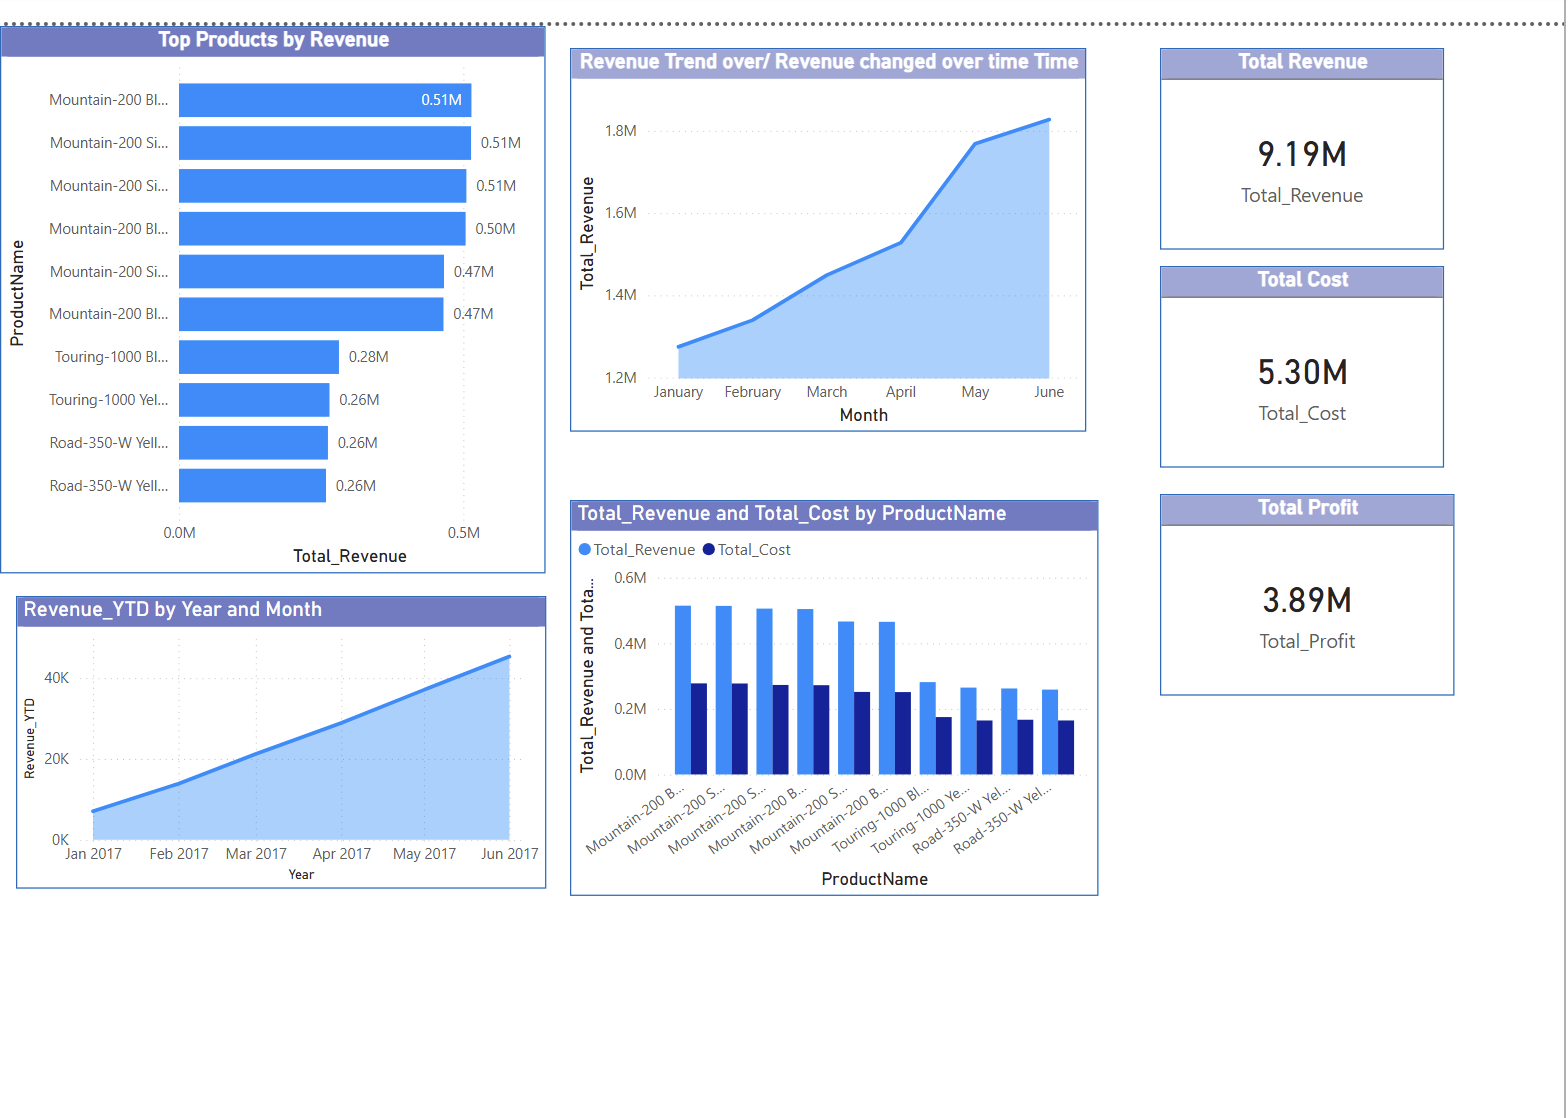

The page's visual inventory and layout, read from the dashboard file:
{"tool":"powerbi","page":{"name":"Page 1","canvas":[1280,720],"ordinal":0},"visuals":[{"type":"areaChart","title":"Revenue Trend over/ Revenue changed over time  Time","fields":{"Category":["AdventureWorks_Calendar.Date.Variation.Date Hierarchy.Year","AdventureWorks_Calendar.Date.Variation.Date Hierarchy.Month"],"Y":["AdventureWorks_Sales_2017.Total_Revenue"]},"box":[466.2,18.3,422.5,314.1],"z":0},{"type":"clusteredColumnChart","fields":{"Y":["AdventureWorks_Sales_2017.Total_Revenue","AdventureWorks_Sales_2017.Total_Cost"],"Category":["AdventureWorks_Products.ProductName"]},"box":[466.2,387.3,432.4,323.9],"z":1000},{"type":"barChart","title":"Top Products by Revenue ","fields":{"Y":["AdventureWorks_Sales_2017.Total_Revenue"],"Category":["AdventureWorks_Products.ProductName"]},"box":[0,0,446.5,447.9],"z":2000},{"type":"areaChart","fields":{"Y":["AdventureWorks_Sales_2017.Revenue_YTD"],"Category":["AdventureWorks_Calendar.Date.Variation.Date Hierarchy.Year","AdventureWorks_Calendar.Date.Variation.Date Hierarchy.Month"]},"box":[12.7,466.2,433.8,239.4],"z":3000},{"type":"card","title":"Total Profit","fields":{"Values":["AdventureWorks_Sales_2017.Total_Profit"]},"box":[949.3,383.1,240.8,164.8],"z":4000},{"type":"card","title":"Total Cost","fields":{"Values":["AdventureWorks_Sales_2017.Total_Cost"]},"box":[949.3,195.8,232.4,164.8],"z":5000},{"type":"card","title":"Total Revenue","fields":{"Values":["AdventureWorks_Sales_2017.Total_Revenue"]},"box":[949.3,18.3,232.4,164.8],"z":6000}]}

Visuals, with their boxes in screenshot pixels (x1, y1, x2, y2):
"Revenue Trend over/ Revenue changed over time  Time" areaChart: crop(567, 51, 1078, 430)
clusteredColumnChart - AdventureWorks_Sales_2017.Total_Revenue x AdventureWorks_Sales_2017.Total_Cost: crop(567, 496, 1090, 888)
"Top Products by Revenue " barChart: crop(4, 29, 543, 570)
areaChart - AdventureWorks_Sales_2017.Revenue_YTD x AdventureWorks_Calendar.Date.Variation.Date Hierarchy.Year: crop(19, 592, 543, 881)
"Total Profit" card: crop(1151, 491, 1442, 690)
"Total Cost" card: crop(1151, 265, 1432, 464)
"Total Revenue" card: crop(1151, 51, 1432, 250)
